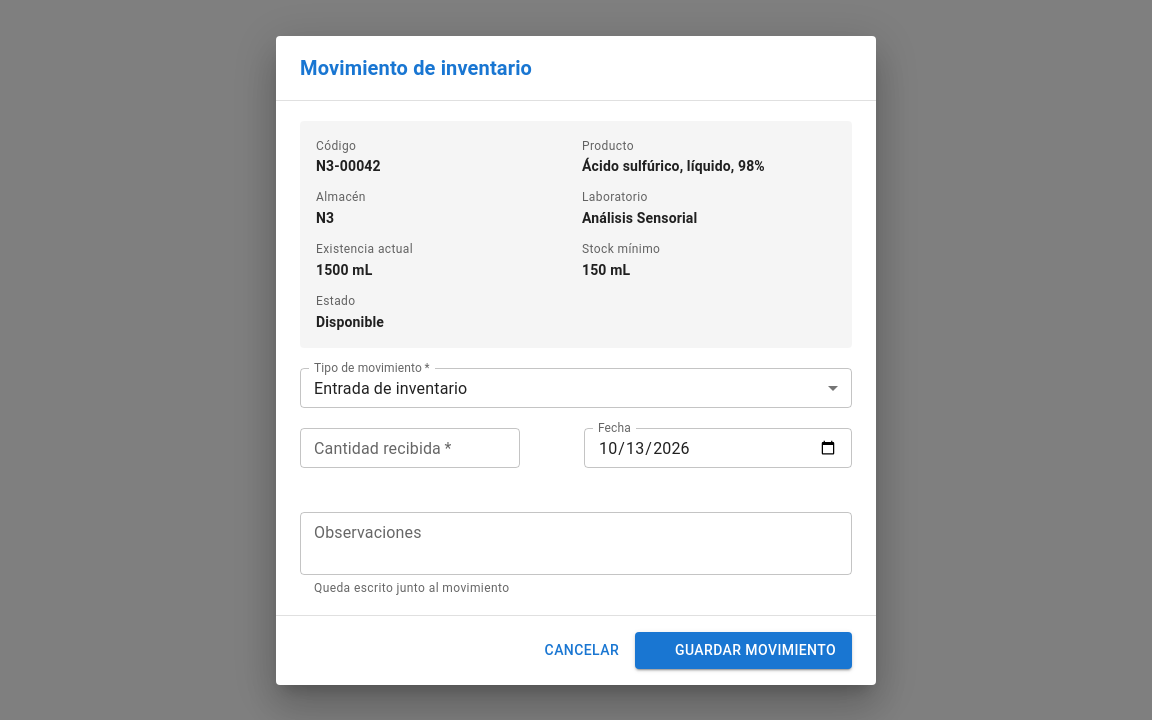
DialogoMovimiento › la merma exige motivo antes de guardar
Click the dropdown named "Tipo de movimiento".
click(391, 388)  # box 314,379 -> 467,398
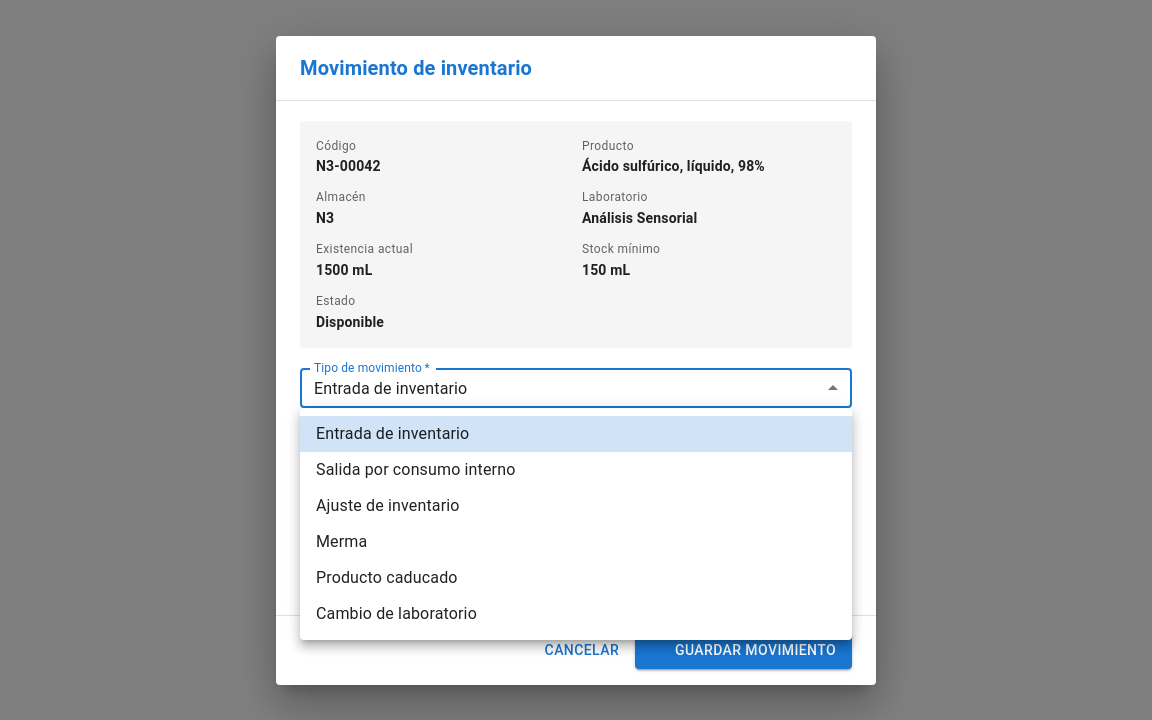
Click the option "Merma".
click(342, 542)  # box 316,532 -> 367,551
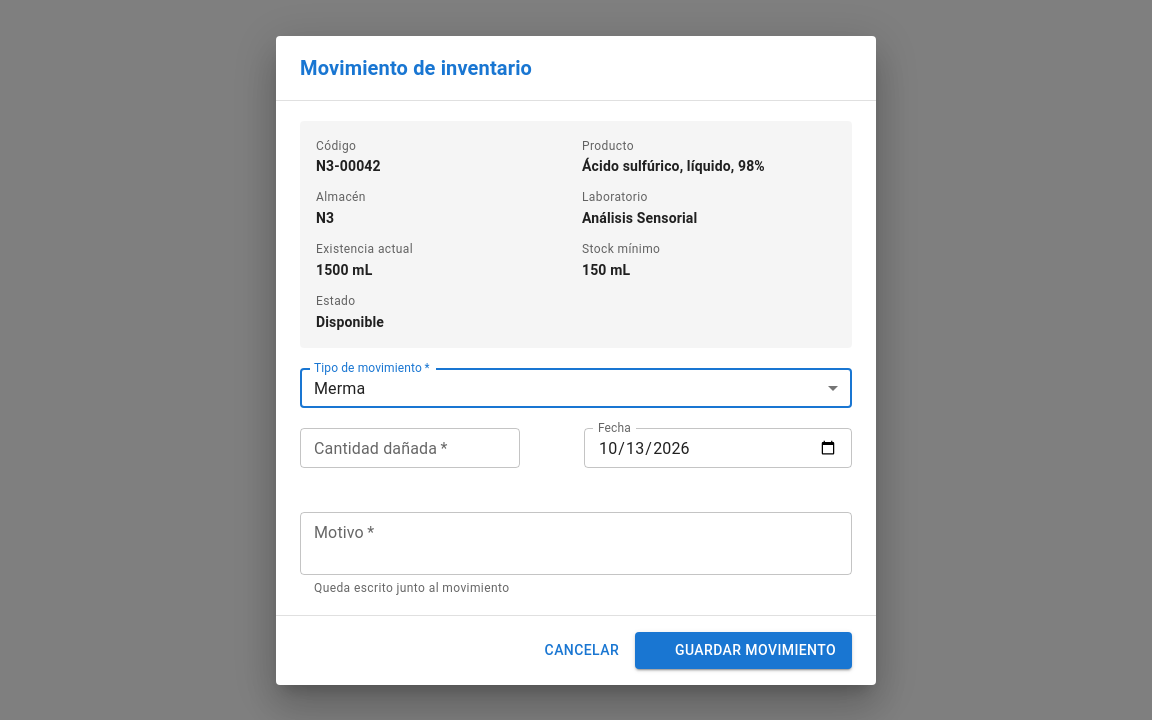
Type "10" into the number field labelled "Cantidad dañada *".
click(410, 448); type("10")  # box 300,428 -> 520,468
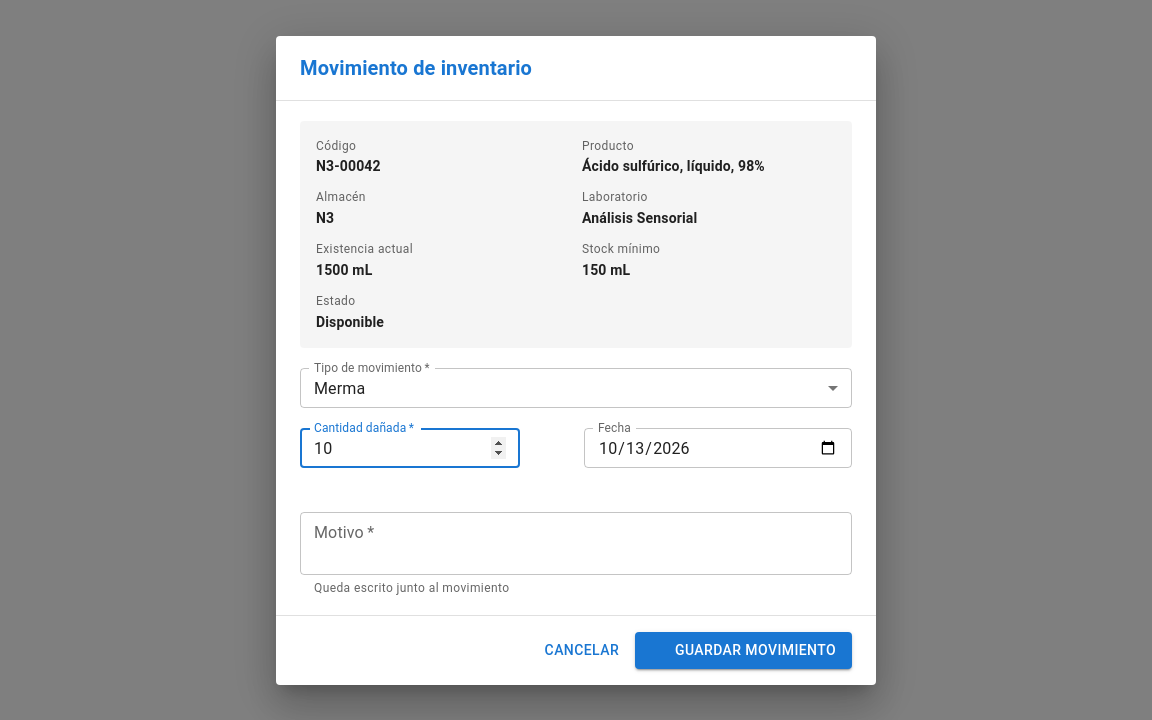
Click the button "Guardar movimiento".
click(744, 650)  # box 635,632 -> 852,668
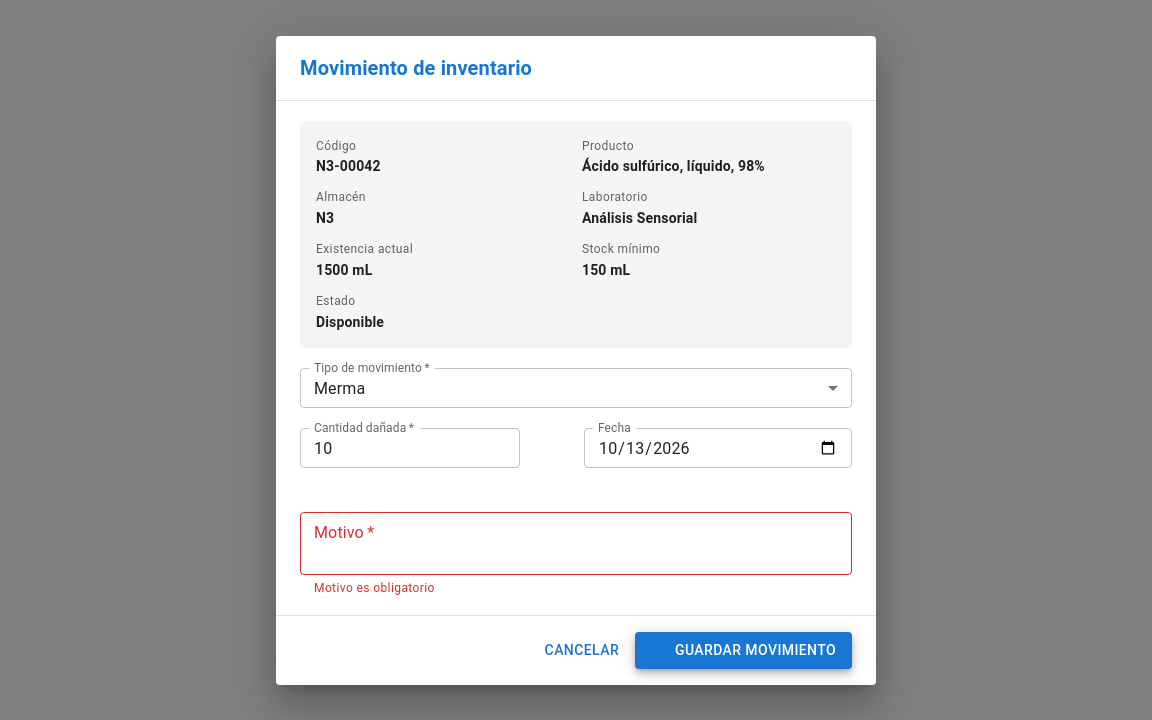
Now the text "Motivo es obligatorio" is shown, box 314,581 -> 435,595
